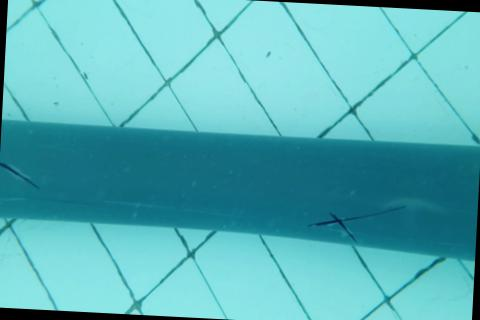keretakan: (305, 197, 407, 242), (0, 158, 41, 190)
